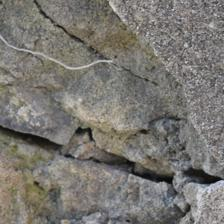Crack: (140, 77, 204, 160), (43, 56, 137, 99)
